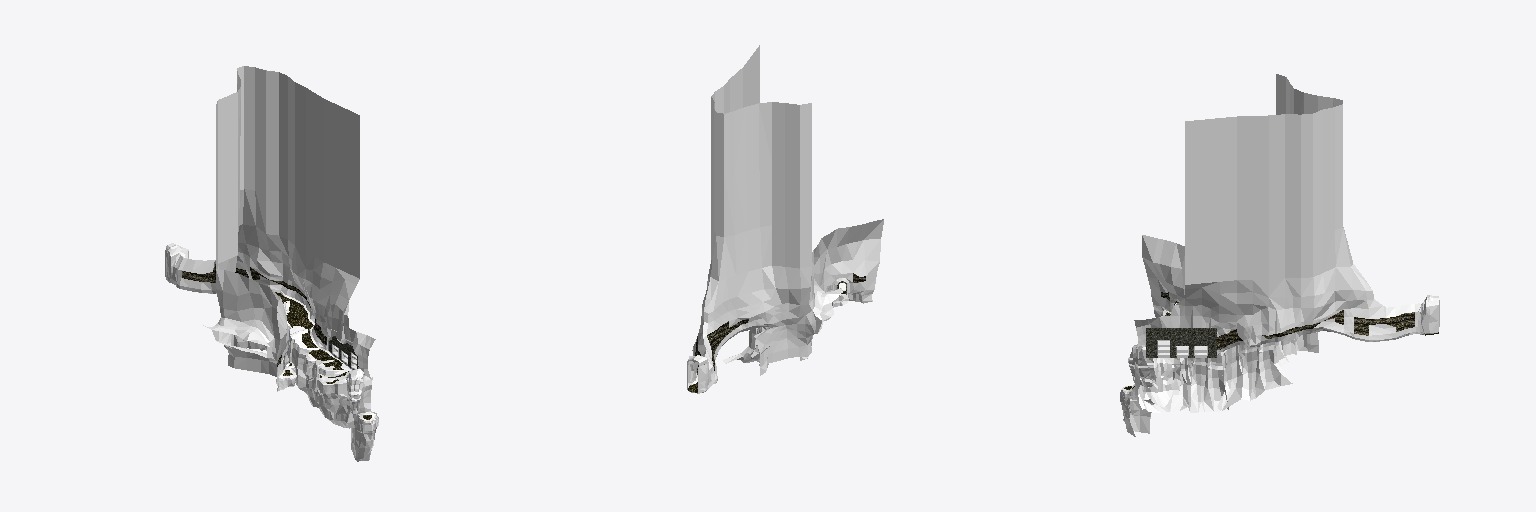
The picture shows the model from 3 angles: view 1: azimuth 30°, elevation 25°; view 2: azimuth 150°, elevation 25°; view 3: azimuth 270°, elevation 25°; orthographic projection.
Visible parts, largest first — view 1: mesh13, mesh4, mesh9, mesh11, mesh3, mesh5, mesh6; view 2: mesh13, mesh4, mesh9, mesh3; view 3: mesh13, mesh4, mesh1, mesh3, mesh2.
Part boxes in pixels (x1,y1,x2,y2): mesh13: (177, 66, 359, 381); mesh4: (170, 225, 376, 461); mesh9: (203, 317, 378, 460); mesh11: (170, 282, 373, 420); mesh3: (182, 264, 326, 366); mesh5: (275, 292, 371, 419); mesh6: (284, 301, 358, 384); mesh13: (692, 45, 879, 379); mesh4: (692, 219, 883, 387); mesh9: (802, 284, 841, 358); mesh3: (695, 273, 865, 370); mesh13: (1148, 74, 1419, 352); mesh4: (1120, 235, 1426, 436); mesh1: (1146, 328, 1216, 357); mesh3: (1161, 292, 1414, 349); mesh2: (1157, 295, 1438, 357).
Size of the model in its own units: 22.11 by 60.95 by 54.69.
15 materials, 5 textured.